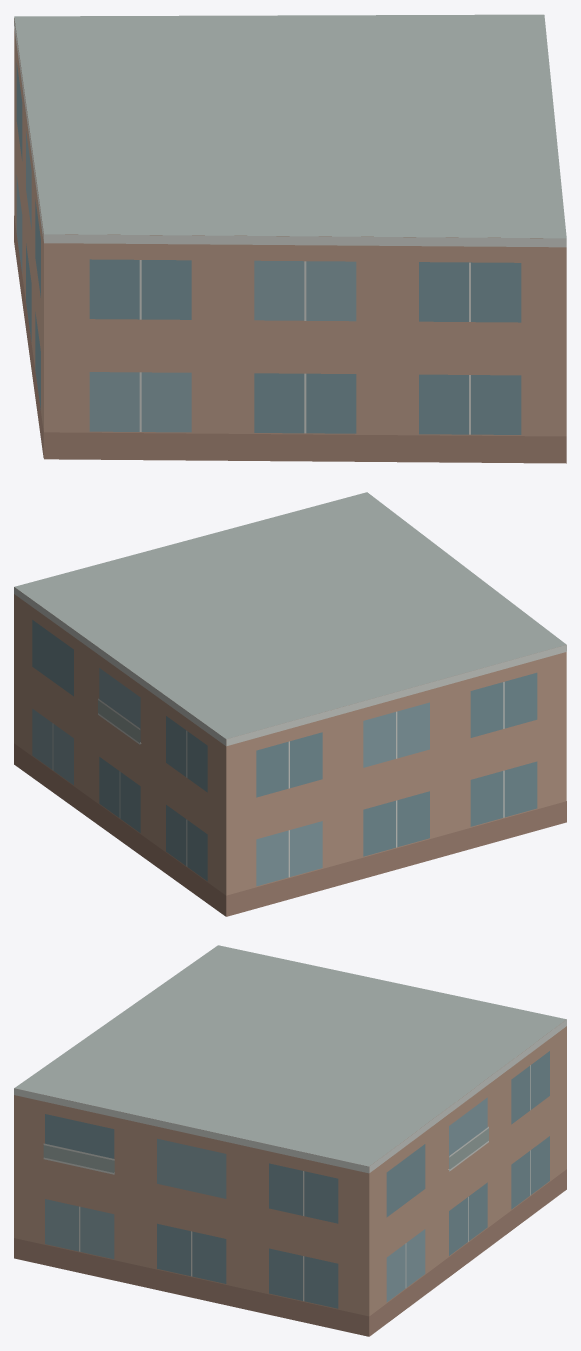
The model's file is survey-upis-32643561.glb.
3 views of the same model, one above another, from view 1: azimuth 30°, elevation 25°; view 2: azimuth 150°, elevation 25°; view 3: azimuth 270°, elevation 25° (orthographic). The views are drawn at different scales.
Parts seen in each view (by area): view 1: survey-upis-32643561.tmp; view 2: survey-upis-32643561.tmp; view 3: survey-upis-32643561.tmp.
Boxes of the visible parts, box(x1,y1,x2,y2) form: survey-upis-32643561.tmp: box(14, 14, 566, 463); survey-upis-32643561.tmp: box(14, 492, 566, 916); survey-upis-32643561.tmp: box(14, 945, 566, 1336).
Bounding box in the file's own units: 17.04 × 6.1 × 17.97.
